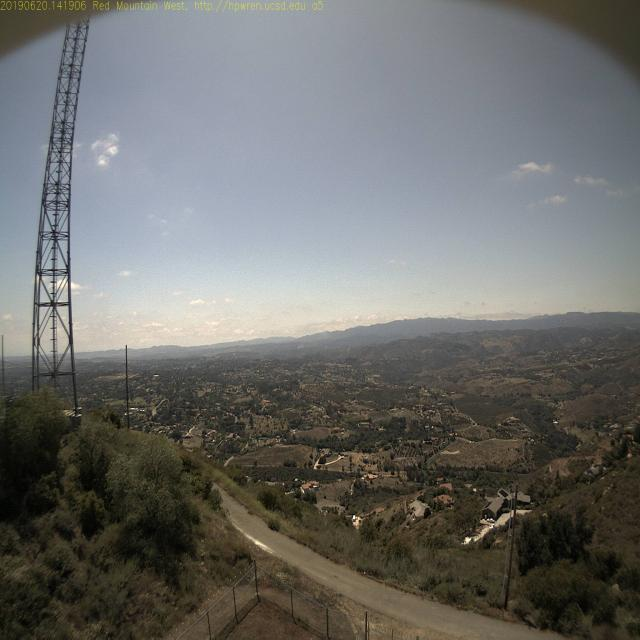smoke: (292, 341, 310, 354)
